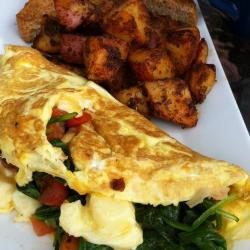omelette: (2, 58, 243, 225)
salad: (49, 204, 223, 249)
